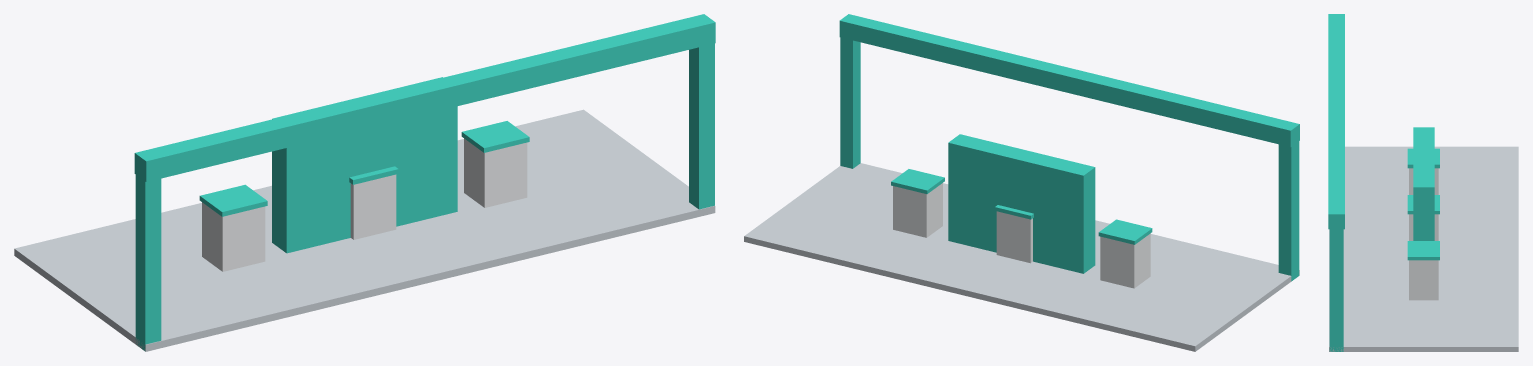
The picture shows the model from 3 angles, left to right: view 1: azimuth 30°, elevation 25°; view 2: azimuth 150°, elevation 25°; view 3: azimuth 270°, elevation 25°; orthographic projection. The views are drawn at different scales.
Visible parts, largest first — view 1: Exhibition Booth Concept; view 2: Exhibition Booth Concept; view 3: Exhibition Booth Concept.
Boxes of the visible parts, x1,y1,x2,y2 form: Exhibition Booth Concept: [14, 14, 715, 351]; Exhibition Booth Concept: [744, 14, 1299, 351]; Exhibition Booth Concept: [1328, 14, 1518, 351].
Bounding box in the file's own units: 10 × 3.2 × 4.02.
